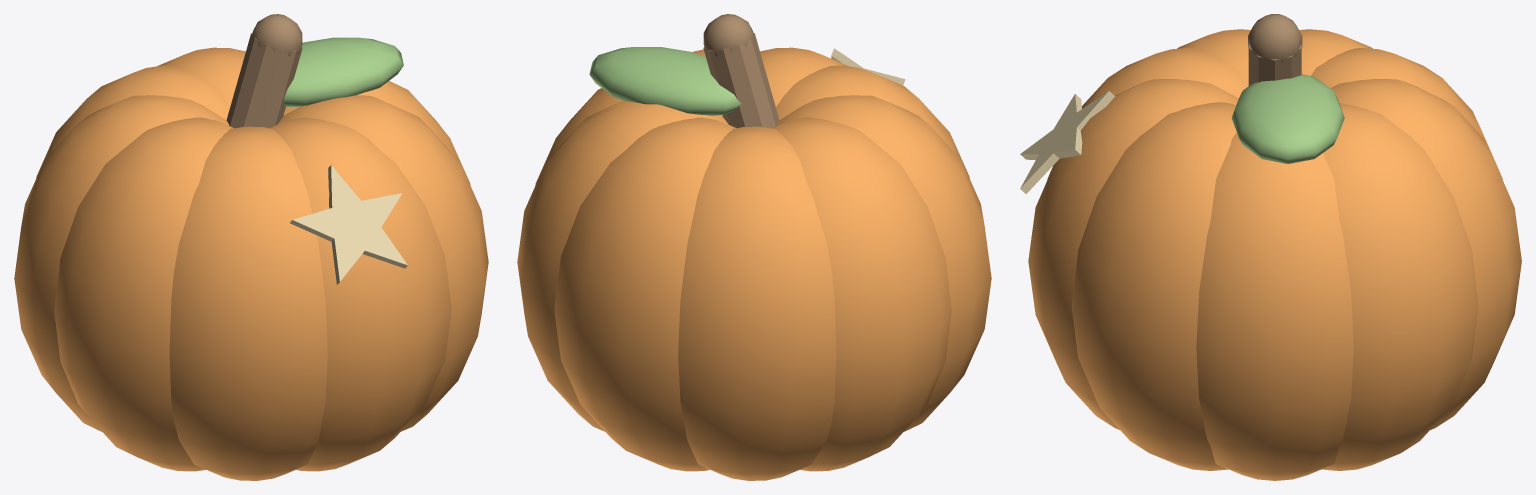
Rendered from secret-pumpkin-star.glb.
3 views of the same model, side by side, from view 1: azimuth 30°, elevation 25°; view 2: azimuth 150°, elevation 25°; view 3: azimuth 270°, elevation 25° (orthographic). The views are drawn at different scales.
Visible parts, largest first — view 1: secret-pumpkin-star; view 2: secret-pumpkin-star; view 3: secret-pumpkin-star.
Part boxes in pixels (x1,y1,x2,y2): secret-pumpkin-star: [14, 14, 488, 480]; secret-pumpkin-star: [517, 14, 991, 480]; secret-pumpkin-star: [1020, 14, 1521, 480].
Bounding box in the file's own units: 0.5671 × 0.537 × 0.576.
